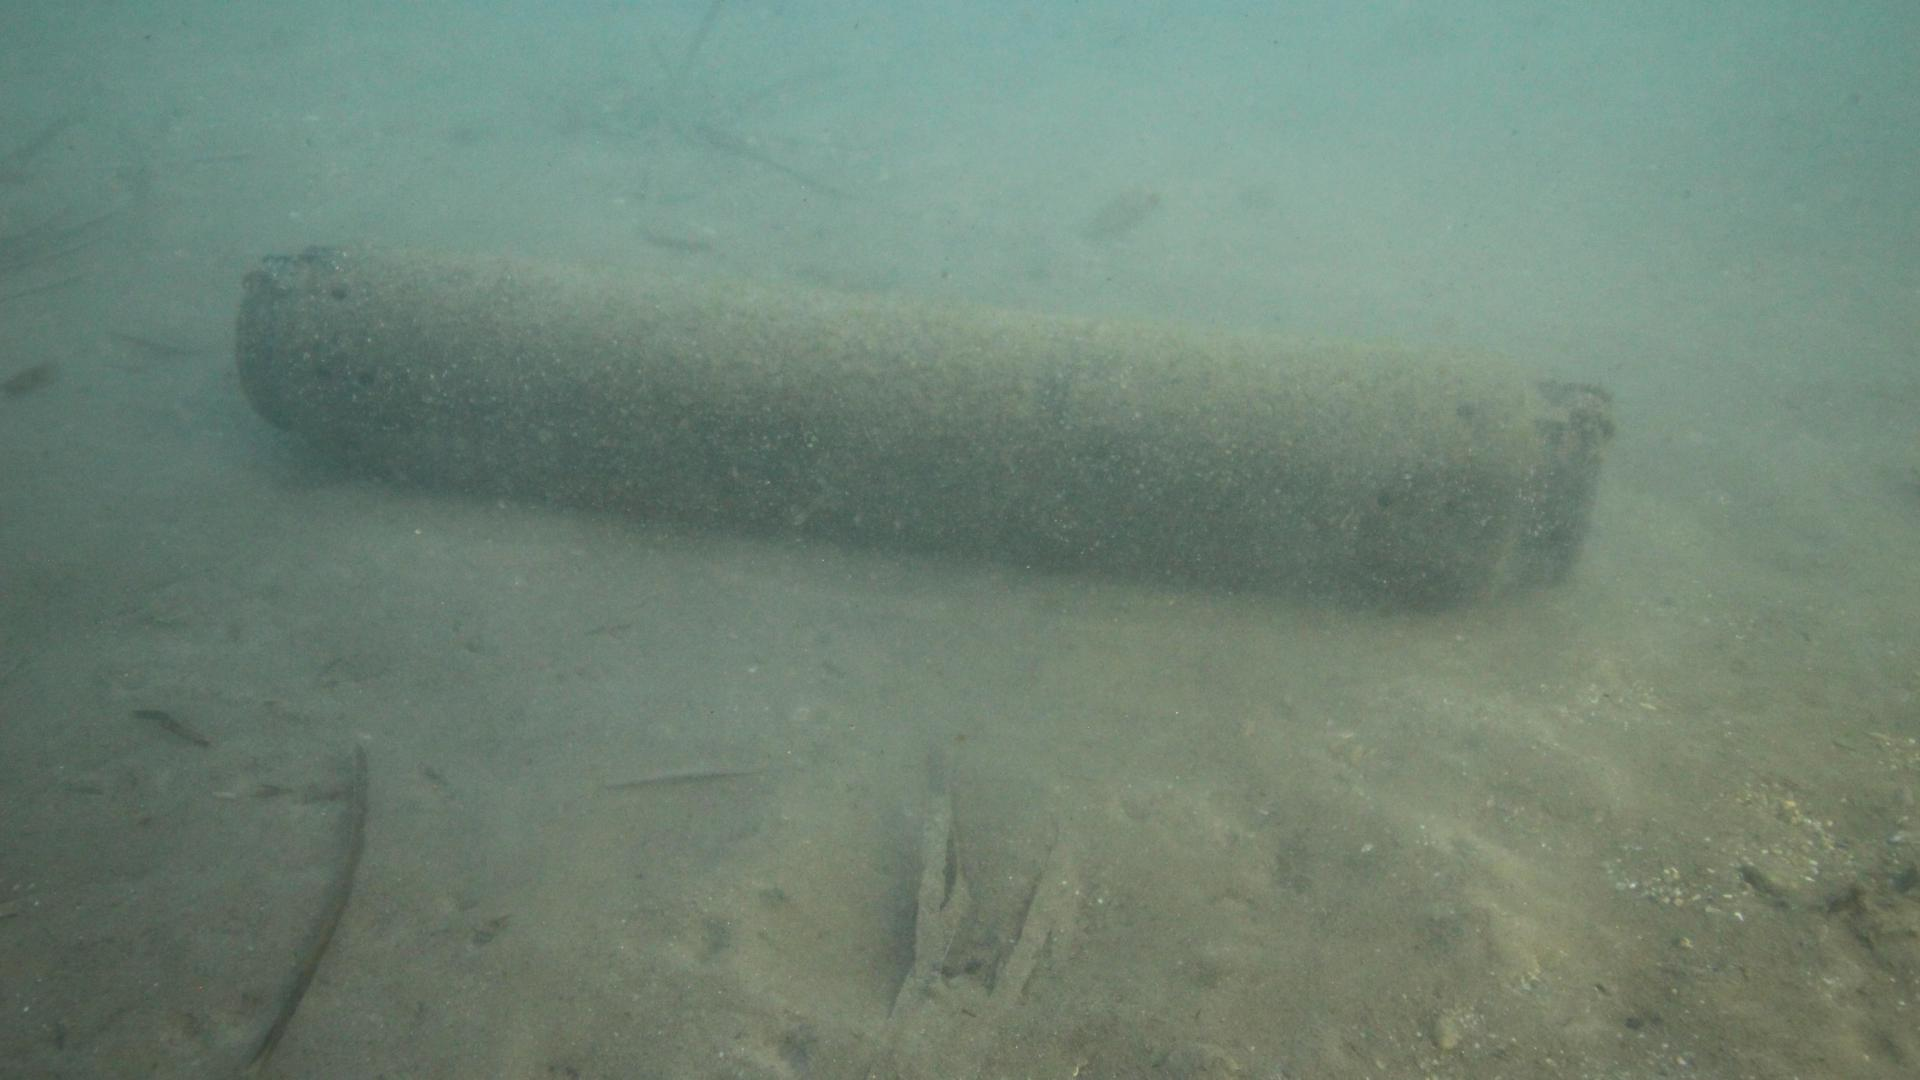eel fish trap: (237, 243, 1615, 601)
